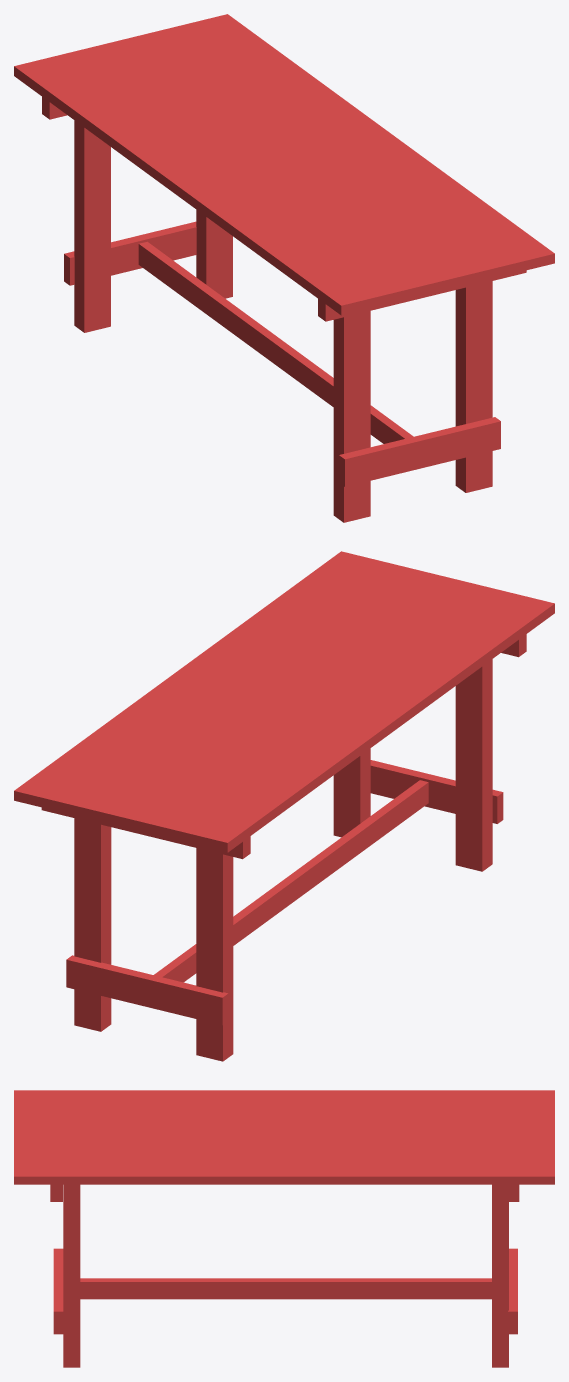
Rendered from Table_COL.fbx.
3 renders of one model, top to bottom at view 1: azimuth 30°, elevation 25°; view 2: azimuth 150°, elevation 25°; view 3: azimuth 270°, elevation 25°, orthographic. The views are drawn at different scales.
Visible parts, largest first — view 1: Table_COL; view 2: Table_COL; view 3: Table_COL.
Boxes of the visible parts, bbox=[...] form: Table_COL: bbox=[14, 14, 554, 522]; Table_COL: bbox=[14, 551, 554, 1061]; Table_COL: bbox=[14, 1090, 554, 1367].
Bounding box in the file's own units: 71.68 × 79.15 × 190.
